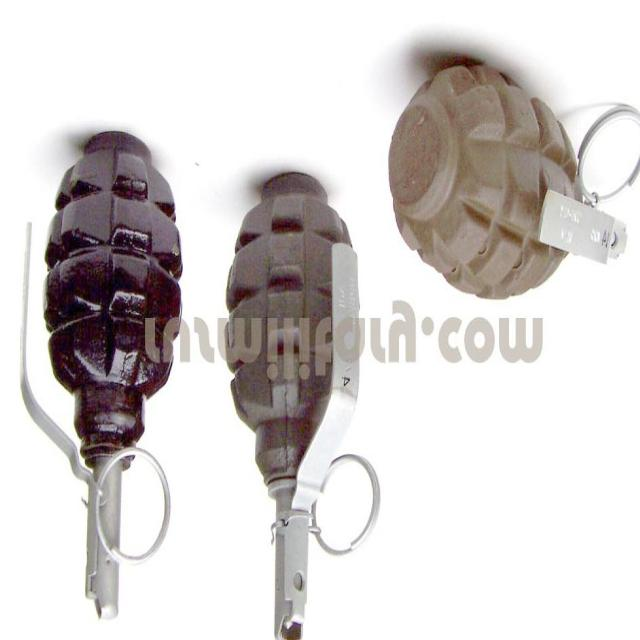grenade: (20, 130, 185, 620), (224, 172, 382, 640), (389, 56, 640, 300)
